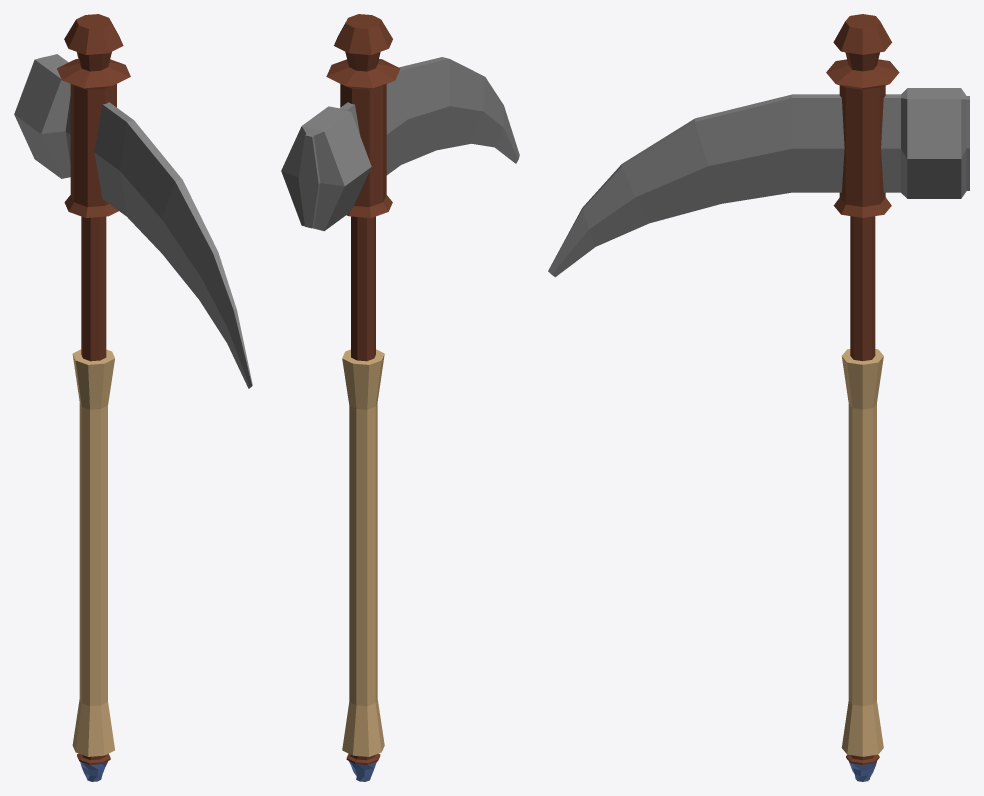
The model's file is Necromancer.fbx.
The picture shows the model from 3 angles, left to right: view 1: azimuth 30°, elevation 25°; view 2: azimuth 150°, elevation 25°; view 3: azimuth 270°, elevation 25°; orthographic projection.
Visible parts, largest first — view 1: Necromancer; view 2: Necromancer; view 3: Necromancer.
Part boxes in pixels (x1,y1,x2,y2): Necromancer: (14, 14, 252, 781); Necromancer: (281, 14, 519, 781); Necromancer: (548, 14, 969, 781).
Bounding box in the file's own units: 35.14 × 391 × 198.
